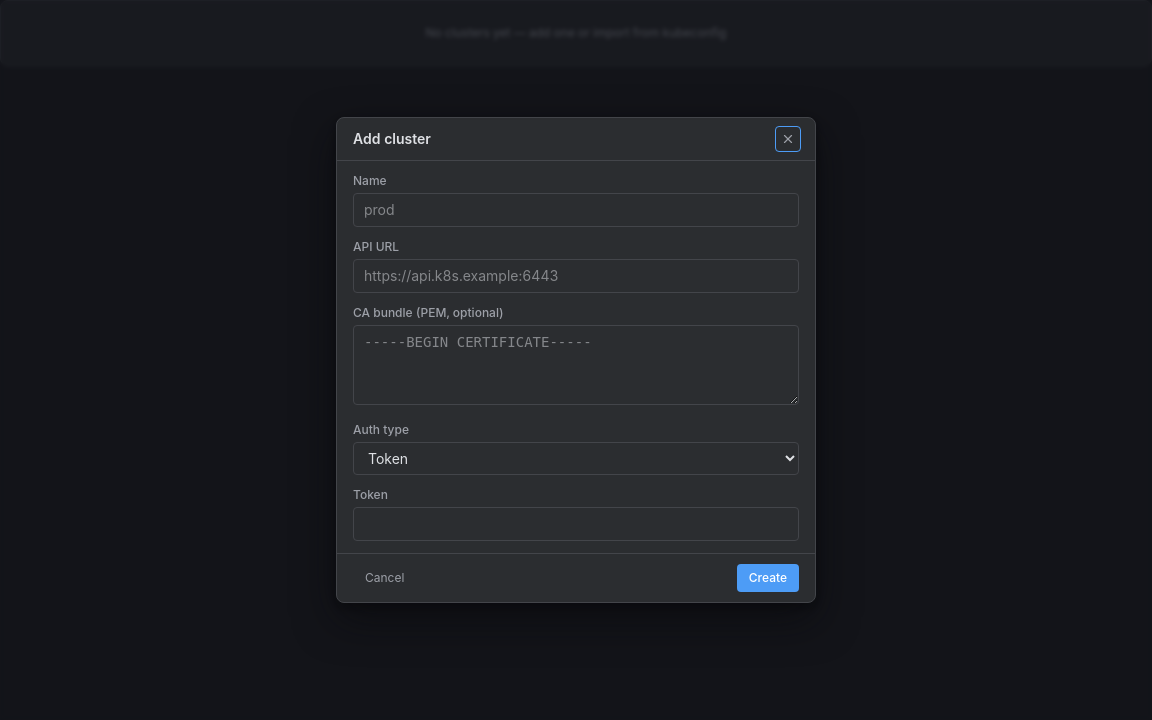
Test: <Clusters> › shows exec fields when the add-cluster auth type is exec
The width and height of the screenshot is (1152, 720).
Check: the field labelled "Command" is not shown
Select "Exec plugin" in the dropdown showing "Token". click: (576, 458)
box: [353,442,799,475]
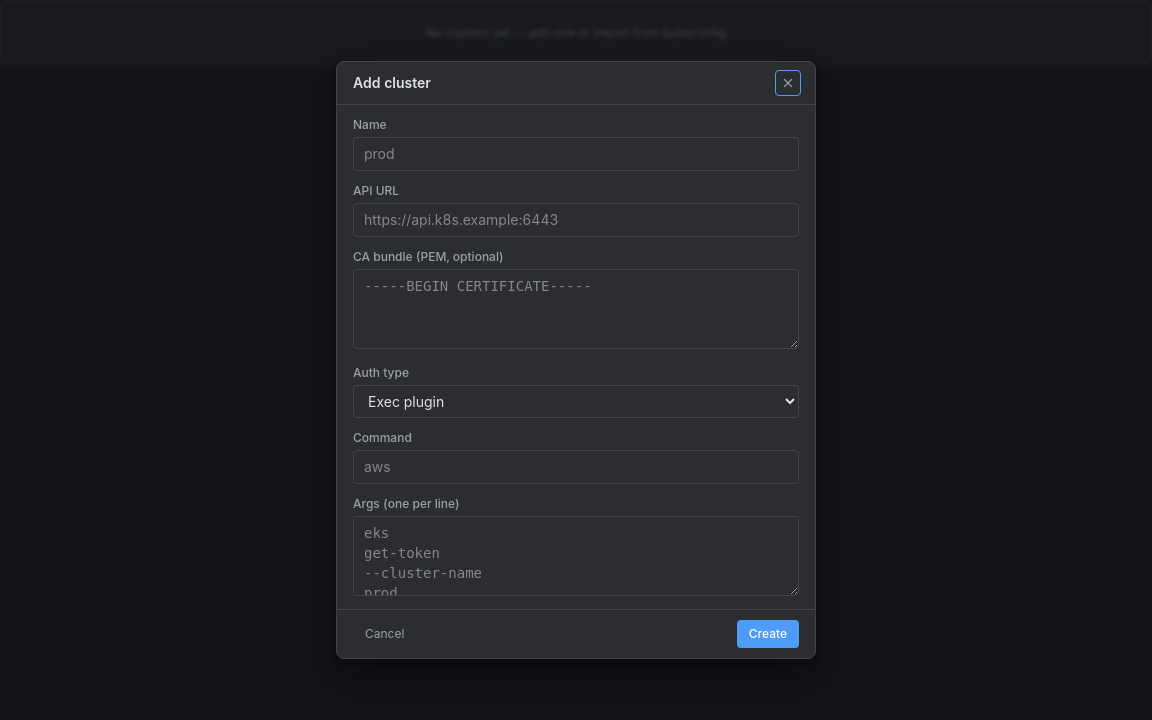
Check: the field labelled "Command" is shown, box [353,450,799,484]
